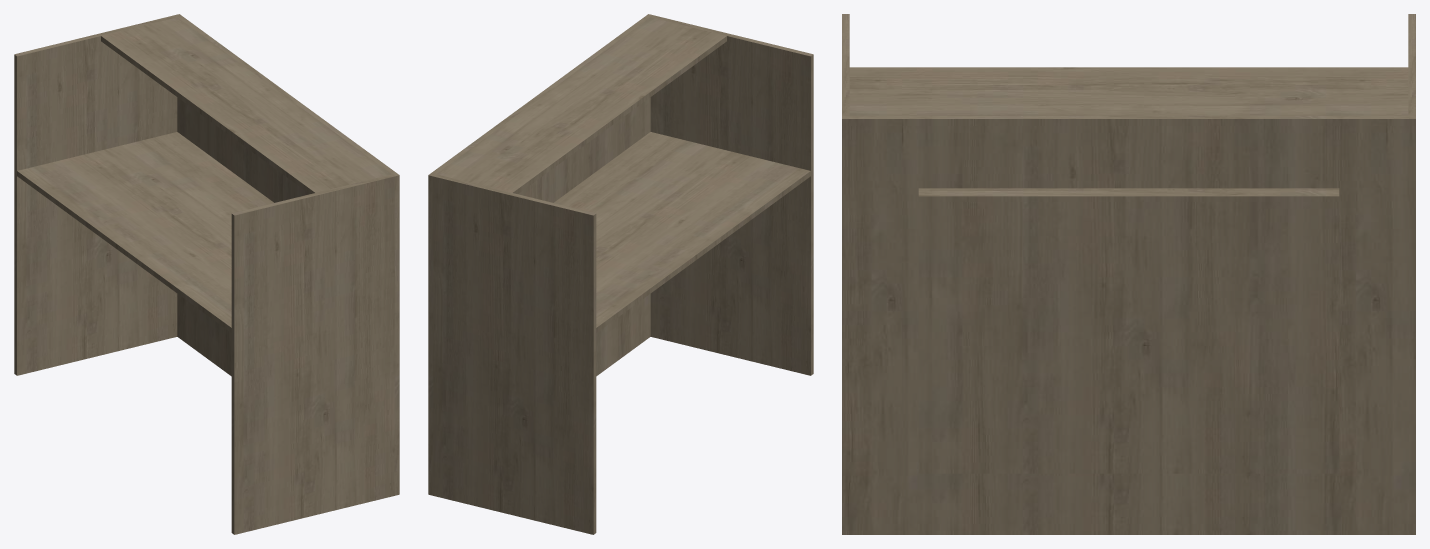
File: res11.glb
3 renders of one model, left to right at view 1: azimuth 30°, elevation 25°; view 2: azimuth 150°, elevation 25°; view 3: azimuth 270°, elevation 25°, orthographic. The views are drawn at different scales.
Parts seen in each view (by area): view 1: Box042, Box043, Box044, Box045, Box041; view 2: Box043, Box042, Box044, Box045, Box041; view 3: Box041, Box046, Box045, Box042, Box043.
Part boxes in pixels (x1=…): Box042: x1=231, y1=174, x2=394, y2=534; Box043: x1=14, y1=15, x2=177, y2=375; Box044: x1=17, y1=132, x2=273, y2=332; Box045: x1=101, y1=17, x2=391, y2=193; Box041: x1=174, y1=14, x2=399, y2=495; Box043: x1=433, y1=174, x2=596, y2=534; Box042: x1=650, y1=15, x2=813, y2=375; Box044: x1=554, y1=132, x2=810, y2=332; Box045: x1=436, y1=17, x2=726, y2=193; Box041: x1=428, y1=14, x2=653, y2=495; Box041: x1=842, y1=115, x2=1415, y2=534; Box046: x1=918, y1=188, x2=1339, y2=473; Box045: x1=849, y1=67, x2=1408, y2=115; Box042: x1=842, y1=14, x2=849, y2=115; Box043: x1=1408, y1=14, x2=1415, y2=115.
Bounding box in the file's own units: 0.7 × 1.2 × 1.5.
1 material, 1 textured.
